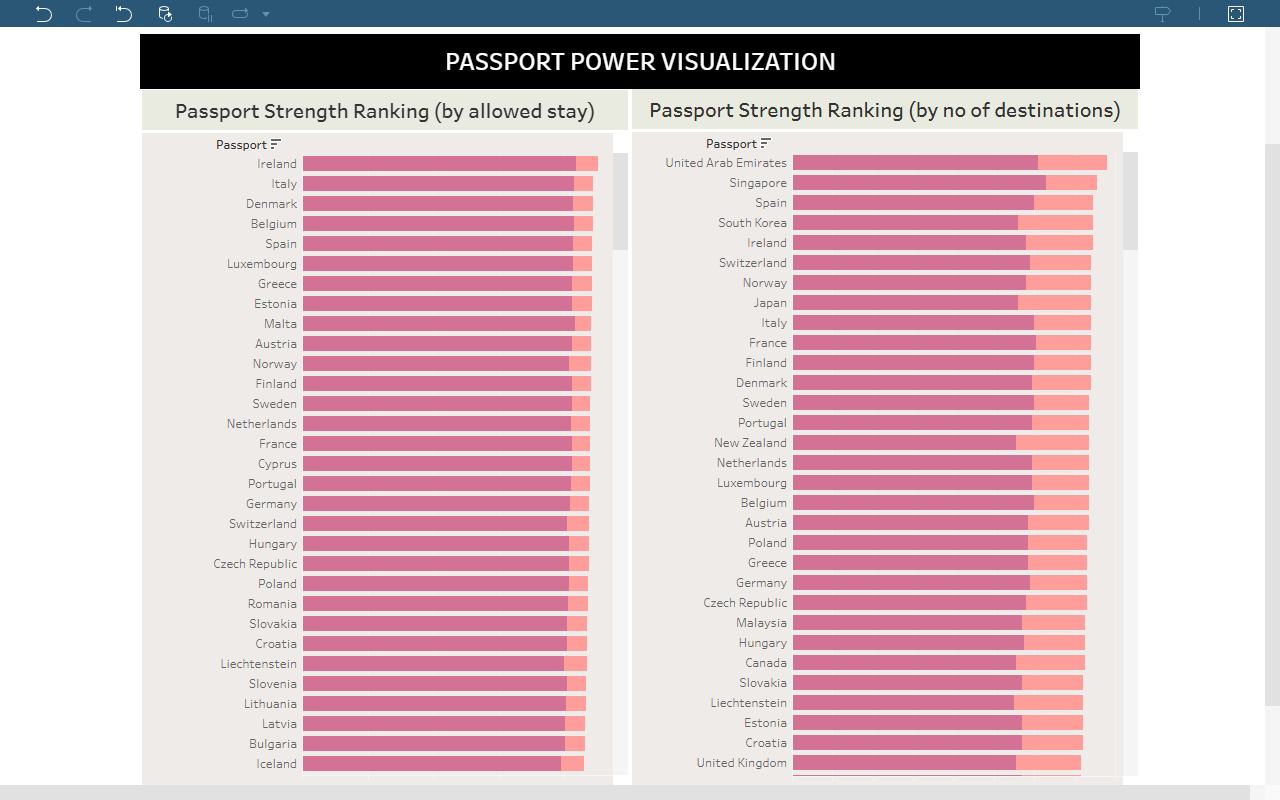

The page's visual inventory and layout, read from the dashboard file:
{"tool":"tableau","page":{"name":"Dashboard 2","canvas":[1000,800],"ordinal":1},"visuals":[{"type":"blank","box":[0,1,1000,55]},{"type":"text","box":[1,2,999,51]},{"type":"worksheet","title":"Pass_str_dest","mark":"Automatic","rows":["Passport"],"cols":["Requirement"],"box":[492,56,509,744]},{"type":"worksheet","title":"Pass_str_dur","mark":"Automatic","rows":["Passport"],"cols":["Duration"],"box":[2,57,489,742]}]}

Visuals, with their boxes on the page's 1000x800 design canvas (x1, y1, x2, y2). These are canvas units, not pixel positions in the 1280x800 screenshot, which may show the page scaled, cropped or inside an application window:
blank: (0,1,1000,56)
text: (1,2,1000,53)
"Pass_str_dest" worksheet: (492,56,1001,800)
"Pass_str_dur" worksheet: (2,57,491,799)
